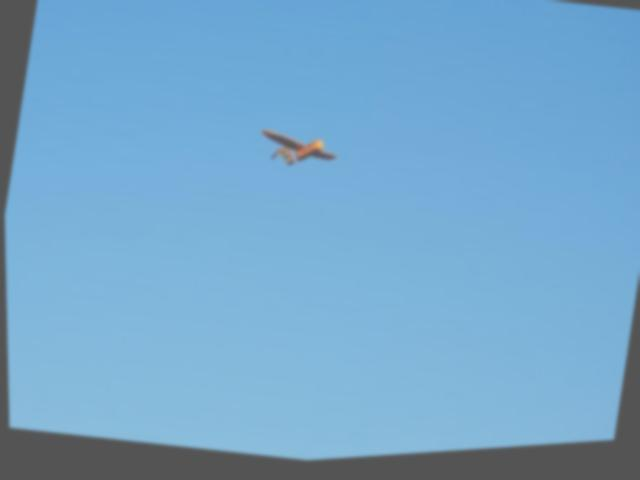iha: (249, 124, 343, 184)
